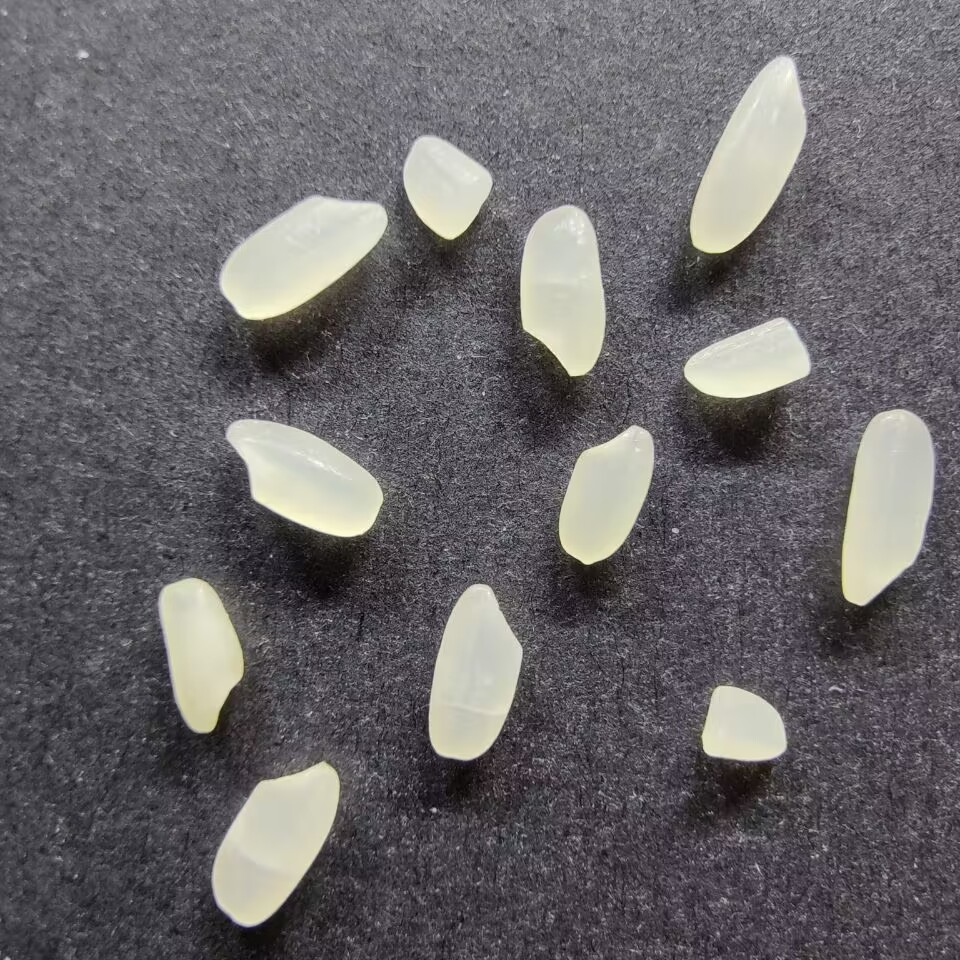broken: (681, 316, 813, 399), (402, 133, 493, 241), (700, 683, 789, 761)
rice: (689, 55, 809, 255), (209, 760, 342, 929), (217, 191, 388, 322), (225, 416, 383, 539), (841, 411, 933, 606), (425, 582, 522, 761), (517, 204, 607, 378), (156, 577, 246, 737), (556, 424, 656, 565)
